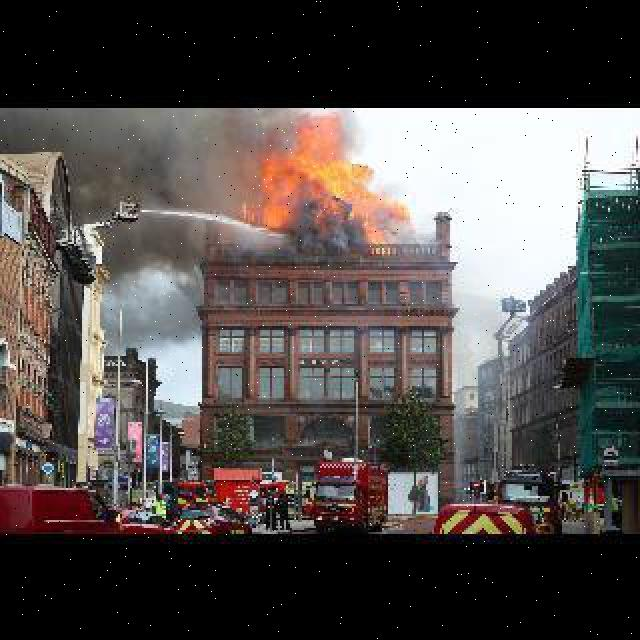fire: (230, 113, 431, 254)
